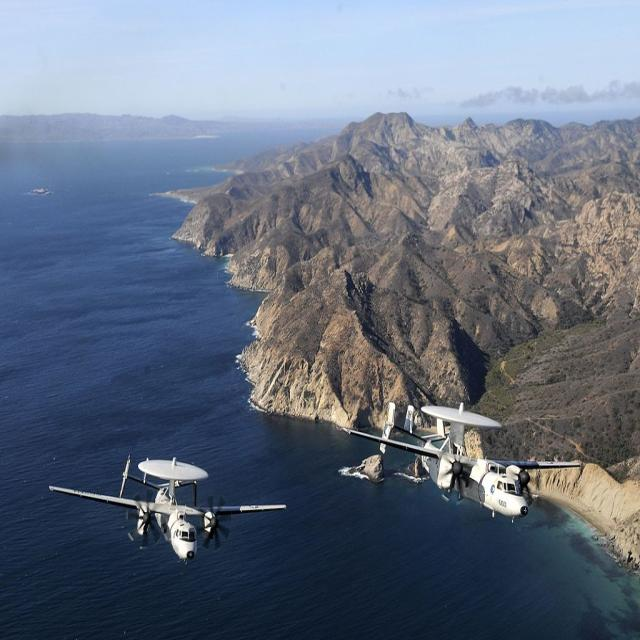MIL_Plane: (49, 402, 287, 513), (343, 427, 581, 498)
